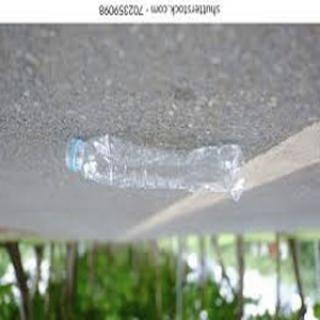Plastic: (61, 123, 251, 204)
